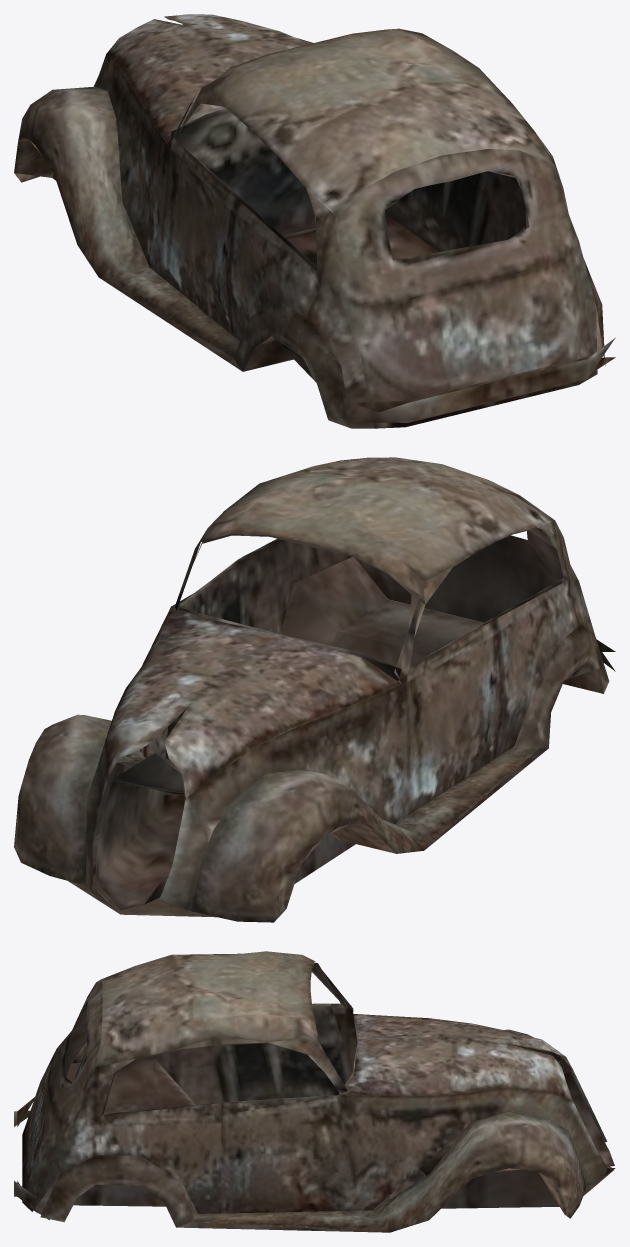
File: car3wreck.glb
3 views of the same model, one above another, from view 1: azimuth 30°, elevation 25°; view 2: azimuth 150°, elevation 25°; view 3: azimuth 270°, elevation 25° (orthographic). The views are drawn at different scales.
Visible parts, largest first — view 1: Car_Damaged.mo_Car_Damaged.md; view 2: Car_Damaged.mo_Car_Damaged.md; view 3: Car_Damaged.mo_Car_Damaged.md.
Boxes of the visible parts, x1=… form: Car_Damaged.mo_Car_Damaged.md: x1=14, y1=14, x2=615, y2=428; Car_Damaged.mo_Car_Damaged.md: x1=14, y1=457, x2=615, y2=922; Car_Damaged.mo_Car_Damaged.md: x1=14, y1=951, x2=615, y2=1232.
Bounding box in the file's own units: 190 × 135 × 382.
1 material, 1 textured.
